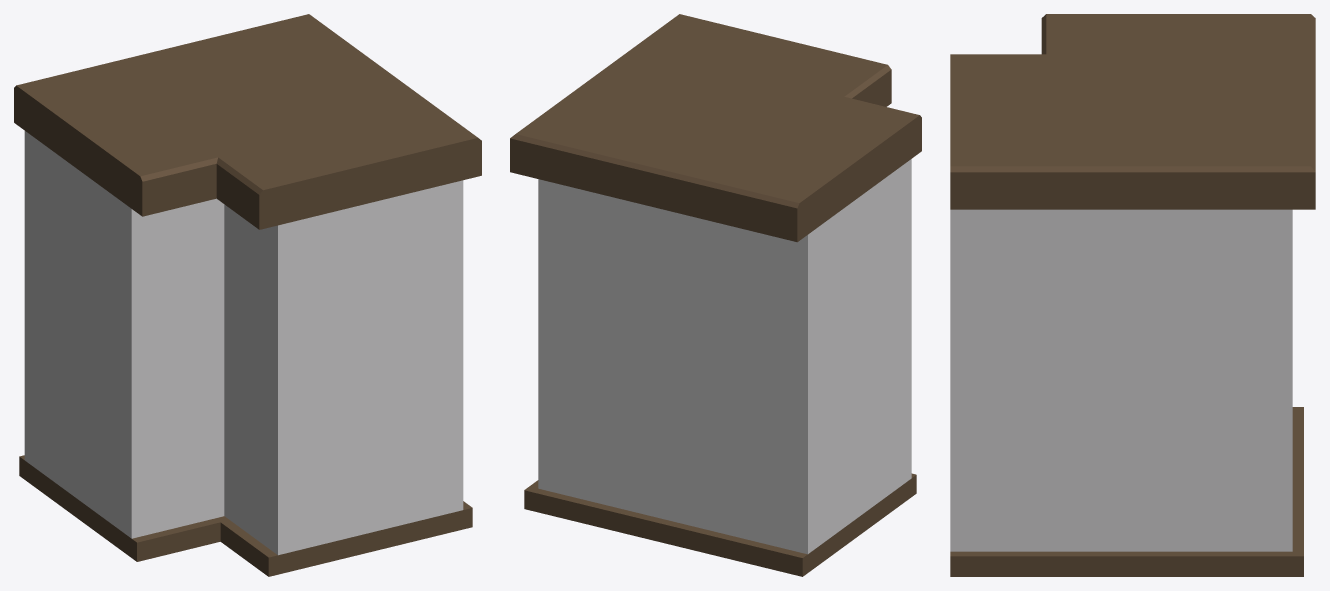
The model's file is SM_Counter_01_corner.glb.
3 renders of one model, left to right at view 1: azimuth 30°, elevation 25°; view 2: azimuth 150°, elevation 25°; view 3: azimuth 270°, elevation 25°, orthographic. The views are drawn at different scales.
Parts seen in each view (by area): view 1: SM_Counter_01_corner; view 2: SM_Counter_01_corner; view 3: SM_Counter_01_corner.
Boxes of the visible parts, bbox=[...] form: SM_Counter_01_corner: bbox=[14, 14, 481, 576]; SM_Counter_01_corner: bbox=[510, 14, 921, 576]; SM_Counter_01_corner: bbox=[950, 14, 1315, 576].
Size of the model in its own units: 0.8 by 1 by 0.8.
1 material, 1 textured.
